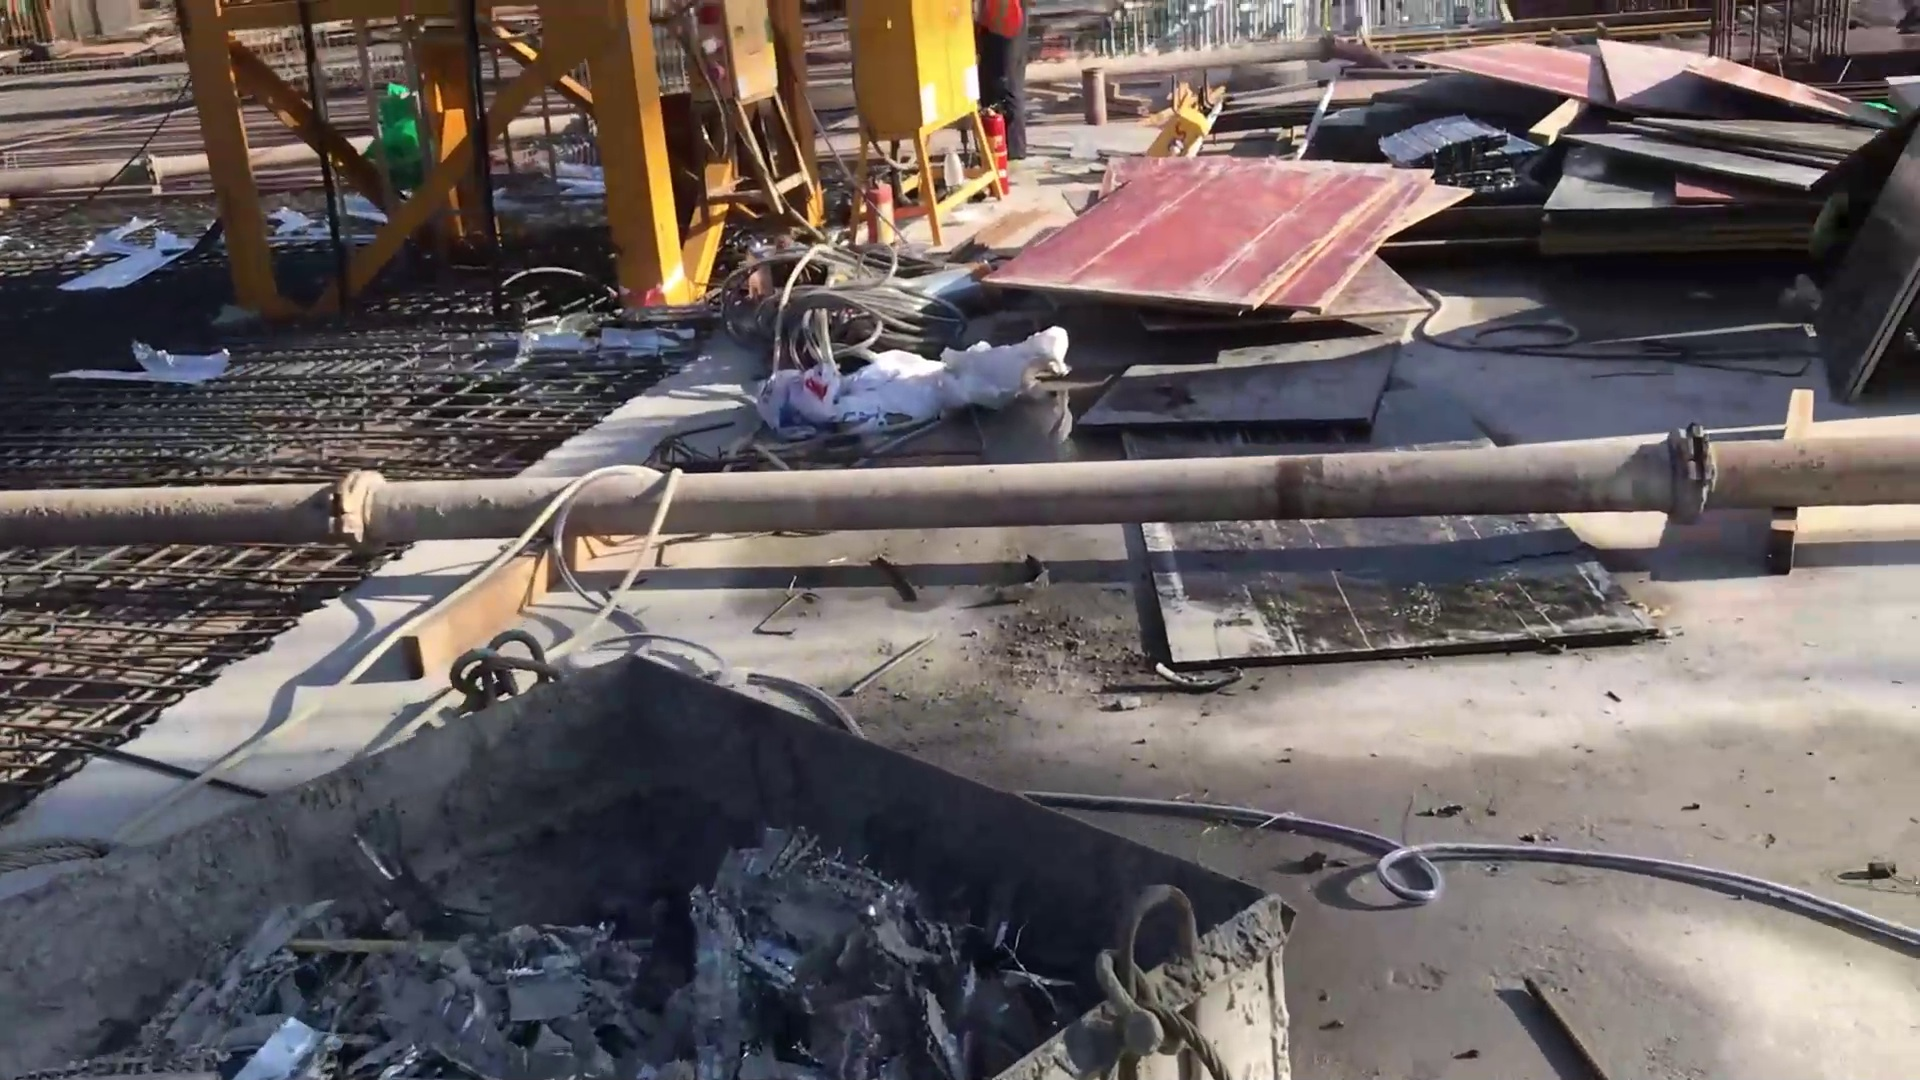ebox: (840, 5, 975, 144), (686, 2, 802, 112)
hopper: (1, 652, 1276, 1080)
person: (977, 1, 1041, 167)
vest: (977, 1, 1030, 39)
